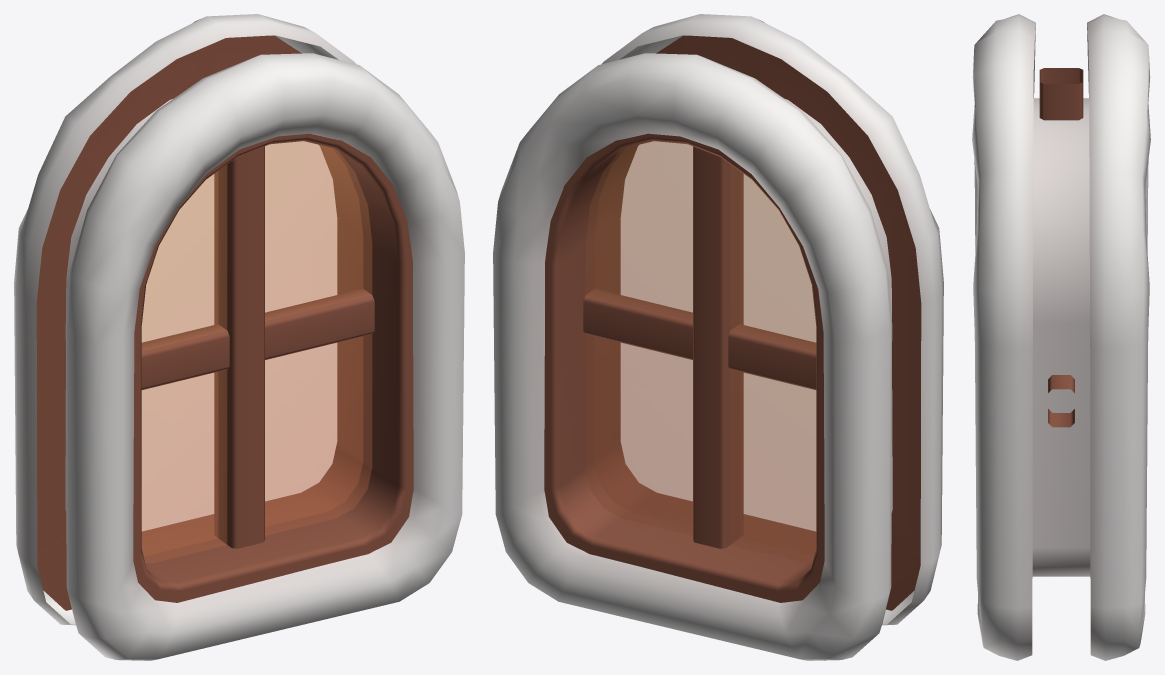
Rendered from janela_arco_natal.glb.
3 renders of one model, left to right at view 1: azimuth 30°, elevation 25°; view 2: azimuth 150°, elevation 25°; view 3: azimuth 270°, elevation 25°, orthographic.
Visible parts, largest first — view 1: janela_arco_natal; view 2: janela_arco_natal; view 3: janela_arco_natal.
Part boxes in pixels (x1,y1,x2,y2): janela_arco_natal: [14, 14, 464, 660]; janela_arco_natal: [493, 14, 943, 660]; janela_arco_natal: [972, 14, 1150, 660].
Bounding box in the file's own units: 0.96 × 1.36 × 0.3889.
3 materials, 3 textured.
